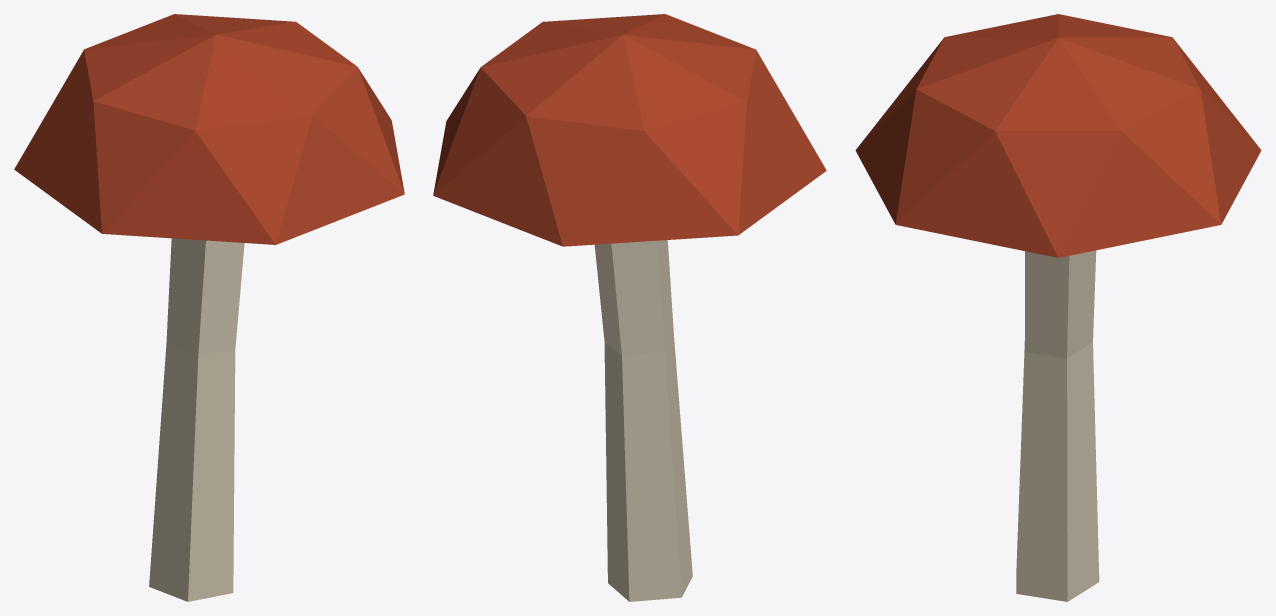
File: mushroom.fbx
3 views of the same model, side by side, from view 1: azimuth 30°, elevation 25°; view 2: azimuth 150°, elevation 25°; view 3: azimuth 270°, elevation 25° (orthographic). The views are drawn at different scales.
Visible parts, largest first — view 1: mushroom; view 2: mushroom; view 3: mushroom.
Boxes of the visible parts, box(x1,y1,x2,y2) form: mushroom: box(14, 14, 404, 601); mushroom: box(433, 14, 826, 601); mushroom: box(855, 14, 1261, 601).
Bounding box in the file's own units: 23.76 × 37 × 24.37.
Materials: 1 (1 with a texture image).
